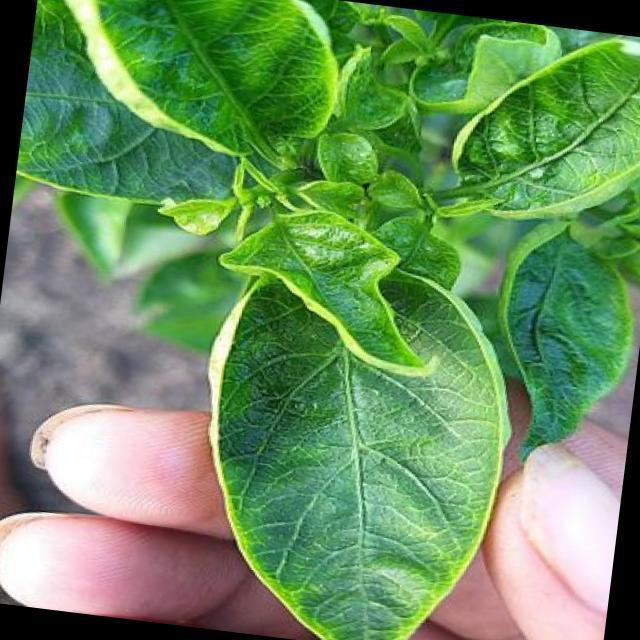Yellow Curl Virus: (194, 247, 520, 640), (43, 0, 340, 162), (201, 202, 452, 378), (446, 22, 640, 225), (490, 215, 640, 472)
